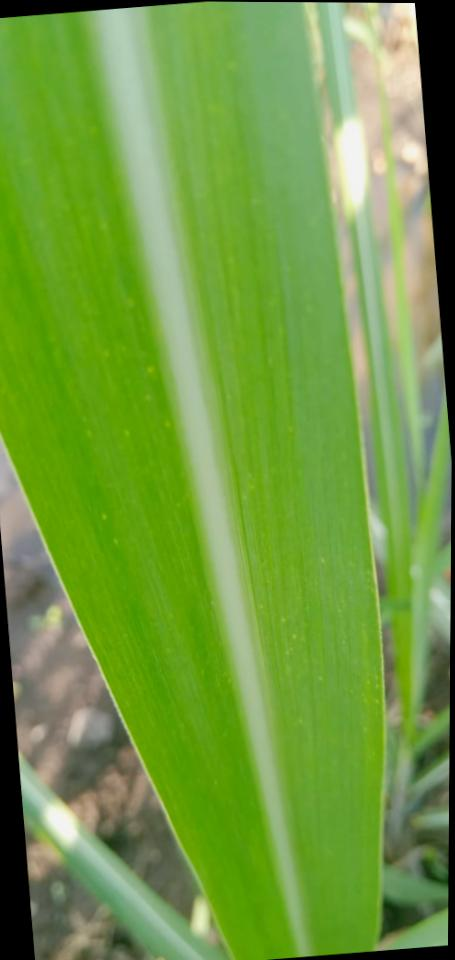Healthy: (0, 10, 291, 960), (141, 2, 384, 955)
